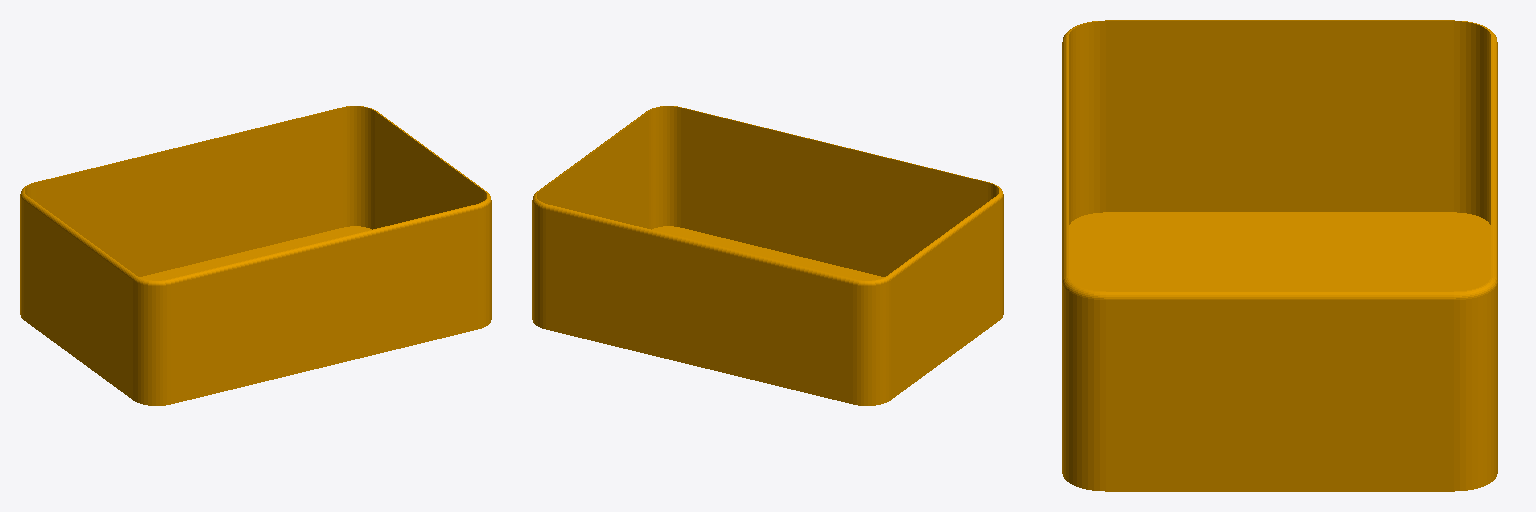
The robot description file, URDF, robot "basket":
<?xml version="1.0"?>
<robot name="basket">
  <link name="base_link">
    <visual>
      <geometry>
        <mesh filename="package://soomac_description/meshes/Simple_basket_box_no-hole_v2.stl" scale="1 1 1"/>
      </geometry>
    </visual>
    <collision>
      <geometry>
        <mesh filename="package://soomac_description/meshes/Simple_basket_box_no-hole_v2.stl" scale="1 1 1"/>
      </geometry>
    </collision>
    <inertial>
      <mass value="1.0" />
      <origin xyz="0 0 0" rpy="0 0 0" />
      <inertia ixx="0.01" ixy="0" ixz="0" iyy="0.01" iyz="0" izz="0.01" />
    </inertial>
  </link>
</robot>

--- Render facts (derived) ---
3 views of the same robot in one strip: view 1: azimuth 30°, elevation 25°; view 2: azimuth 150°, elevation 25°; view 3: azimuth 270°, elevation 25° (orthographic).
Robot: basket — 1 links, 0 joints (none); root link base_link; default pose: every joint at zero.
Links seen in each view (by area): view 1: base_link; view 2: base_link; view 3: base_link.
Boxes of the visible links, x1,y1,x2,y2 form: base_link: (20,106,491,405); base_link: (532,106,1003,405); base_link: (1062,20,1497,491).
Size in the robot's own frame: 150 by 100 by 50 metres.
Meshes: 1 distinct files referenced, 1 mesh visuals loaded (1 binary STL).